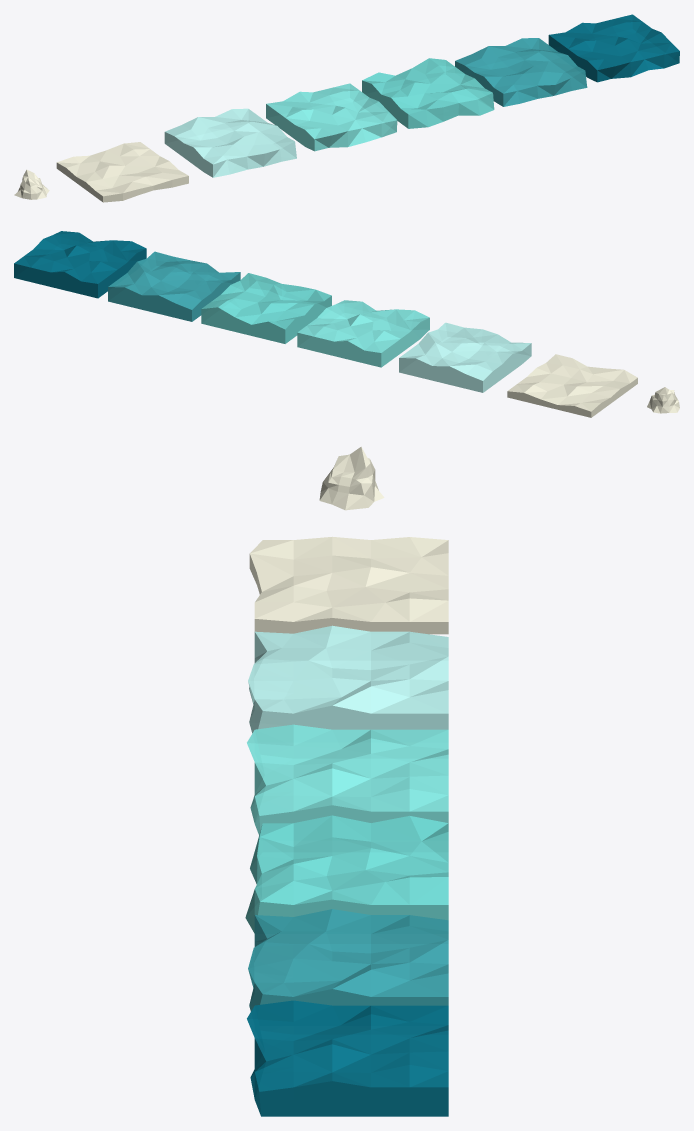
The model's file is Iceblocks.fbx.
3 views of the same model, one above another, from view 1: azimuth 30°, elevation 25°; view 2: azimuth 150°, elevation 25°; view 3: azimuth 270°, elevation 25° (orthographic). The views are drawn at different scales.
Parts seen in each view (by area): view 1: SM_iceblock_1_DE, SM_iceblock_2_DE, SM_iceblock_3_DE, SM_iceblock_4_DE, SM_iceblock_5_DE, SM_top_icelayer_DE, SM_ice_DE; view 2: SM_iceblock_1_DE, SM_iceblock_2_DE, SM_iceblock_3_DE, SM_iceblock_5_DE, SM_iceblock_4_DE, SM_top_icelayer_DE, SM_ice_DE; view 3: SM_iceblock_5_DE, SM_iceblock_1_DE, SM_iceblock_3_DE, SM_iceblock_2_DE, SM_top_icelayer_DE, SM_iceblock_4_DE, SM_ice_DE.
Boxes of the visible parts, box(x1,y1,x2,y2) form: SM_iceblock_1_DE: box(164, 108, 296, 177); SM_iceblock_2_DE: box(266, 83, 397, 151); SM_iceblock_3_DE: box(362, 58, 494, 128); SM_iceblock_4_DE: box(455, 38, 587, 106); SM_iceblock_5_DE: box(548, 14, 679, 82); SM_top_icelayer_DE: box(56, 142, 188, 202); SM_ice_DE: box(14, 169, 49, 199); SM_iceblock_1_DE: box(399, 322, 531, 392); SM_iceblock_2_DE: box(297, 300, 429, 367); SM_iceblock_3_DE: box(201, 273, 331, 343); SM_iceblock_5_DE: box(14, 231, 146, 298); SM_iceblock_4_DE: box(108, 251, 240, 321); SM_top_icelayer_DE: box(507, 354, 637, 417); SM_ice_DE: box(647, 387, 679, 413); SM_iceblock_5_DE: box(247, 1000, 448, 1116); SM_iceblock_1_DE: box(248, 625, 448, 733); SM_iceblock_3_DE: box(245, 815, 448, 933); SM_iceblock_2_DE: box(247, 724, 448, 835); SM_top_icelayer_DE: box(249, 536, 448, 634); SM_iceblock_4_DE: box(248, 909, 448, 1011); SM_ice_DE: box(319, 446, 384, 510).
Size of the model in its own units: 14102 by 1937 by 634.
